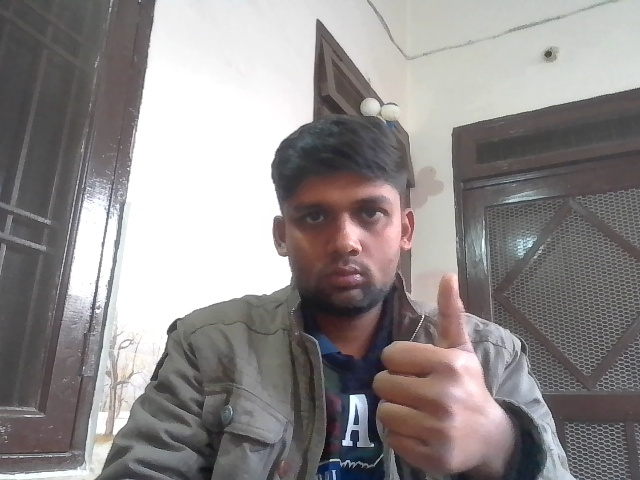Excellent: (241, 264, 500, 471)
